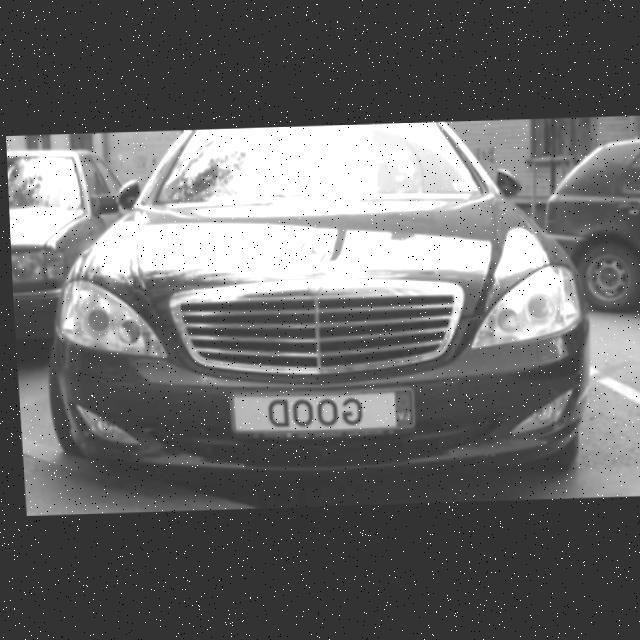license-plates: (229, 390, 411, 434)
